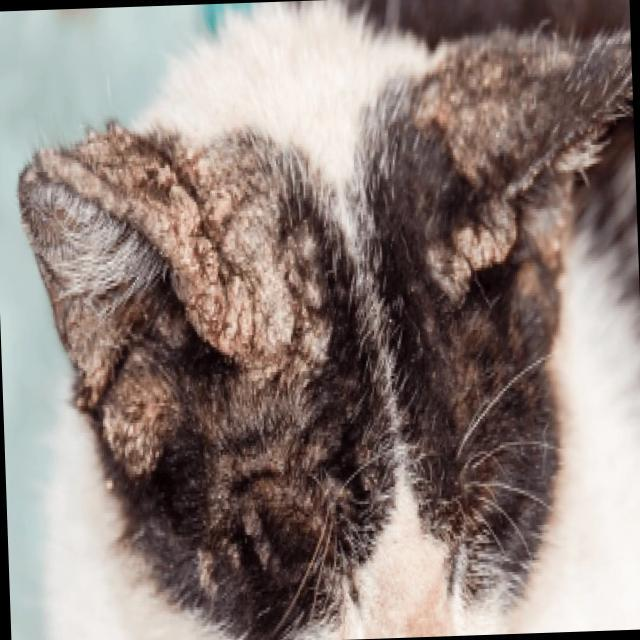Mange: (32, 125, 297, 380), (428, 202, 517, 302), (417, 56, 498, 132), (77, 335, 128, 406), (104, 408, 156, 477), (186, 546, 214, 607)
